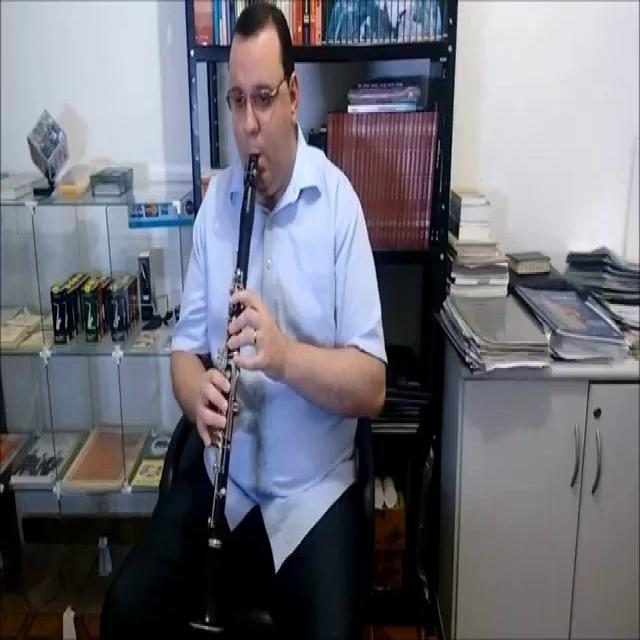Clarinet: (182, 135, 267, 639)
